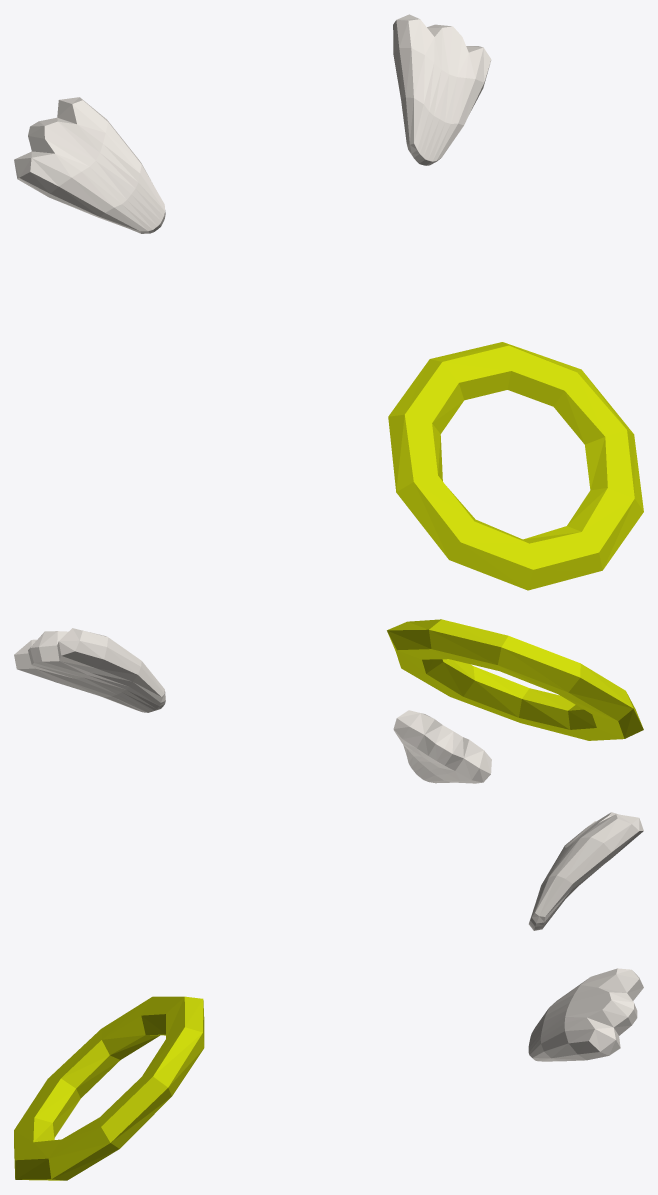
Rendered from Angel_v.1.2.fbx.
3 views of the same model, one above another, from view 1: azimuth 30°, elevation 25°; view 2: azimuth 150°, elevation 25°; view 3: azimuth 270°, elevation 25° (orthographic). The views are drawn at different scales.
Parts seen in each view (by area): view 1: Torus, Cube; view 2: Torus, Cube; view 3: Torus, Cube.
Boxes of the visible parts, <box> form: Torus: <box>388,342,643,590</box>; Cube: <box>14,14,491,233</box>; Torus: <box>387,619,643,740</box>; Cube: <box>14,628,491,783</box>; Torus: <box>14,996,204,1180</box>; Cube: <box>528,812,643,1061</box>.
Size of the model in its own units: 106 by 62.08 by 130.
